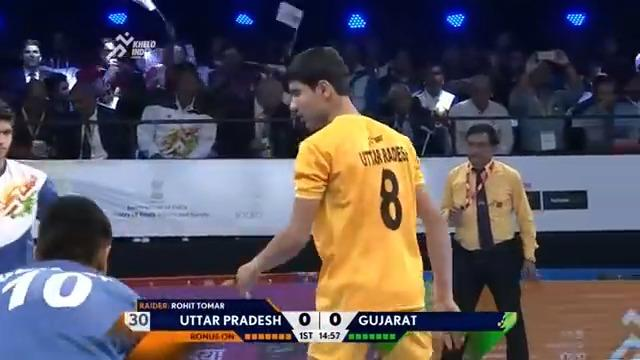Player: (0, 194, 147, 359), (0, 102, 59, 273)
Raider: (232, 45, 461, 359)
referee: (438, 122, 539, 358)
